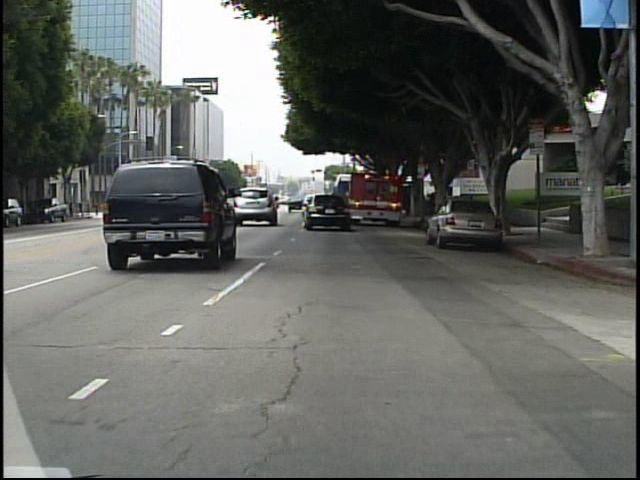person: (92, 197, 105, 218)
